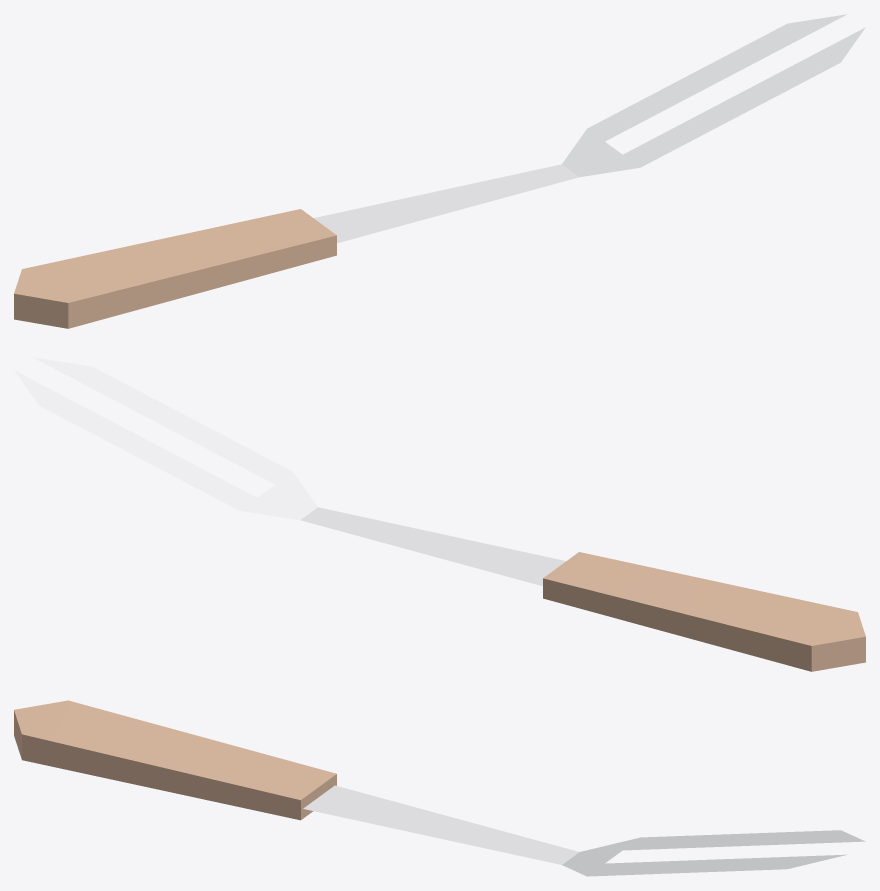
The model's file is cookingFork.fbx.
3 renders of one model, top to bottom at view 1: azimuth 30°, elevation 25°; view 2: azimuth 150°, elevation 25°; view 3: azimuth 330°, elevation 25°, orthographic.
Visible parts, largest first — view 1: cookingFork; view 2: cookingFork; view 3: cookingFork.
Boxes of the visible parts, left/top/right/bottom form: cookingFork: left=14, top=14, right=865, bottom=328; cookingFork: left=14, top=357, right=865, bottom=671; cookingFork: left=14, top=700, right=865, bottom=876.
Size of the model in its own units: 68.27 by 7.21 by 7.49.
